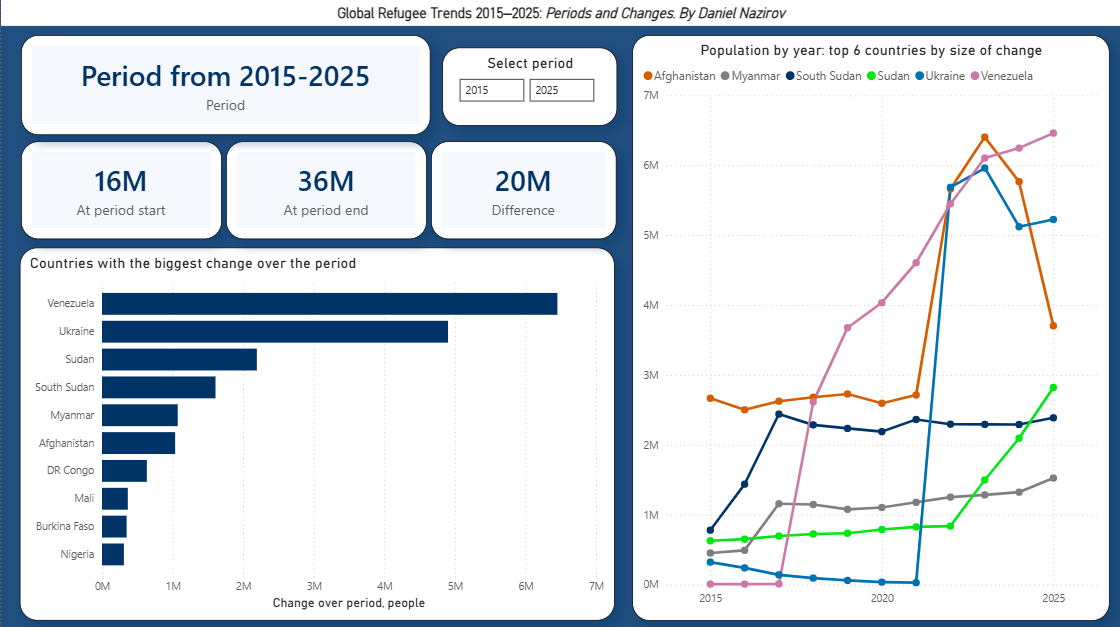

This screenshot's page, from the dashboard's own definition file:
{"tool":"powerbi","page":{"name":"Periods and changes","canvas":[1280,720],"ordinal":1},"visuals":[{"type":"clusteredBarChart","title":"Countries with the biggest change over the period","fields":{"Category":["refugees_stock_ru.Страна_происхождения"],"Y":["refugees_stock_ru.Изменение за период"]},"box":[20.9,283.2,679.6,426.3],"z":0},{"type":"slicer","title":"Select period","fields":{"Values":["Годы.Год"]},"box":[503.8,53.7,199.7,89.4],"z":1000},{"type":"cardVisual","fields":{"Data":["refugees_stock_ru.На начало периода"]},"box":[23.3,161.3,229.5,111.8],"z":2000},{"type":"cardVisual","fields":{"Data":["refugees_stock_ru.На конец периода"]},"box":[257.3,161.3,229.5,111.8],"z":3000},{"type":"cardVisual","fields":{"Data":["refugees_stock_ru.Подпись периода"]},"box":[23.3,40.5,468,114.8],"z":4000},{"type":"lineChart","title":"Population by year: top 6 countries by size of change","fields":{"Category":["Годы.Год"],"Series":["refugees_stock_ru.Страна_происхождения"],"Y":["refugees_stock_ru.Беженцы и нуждающиеся в защите"]},"box":[721.4,40.2,545.5,669.2],"z":5000},{"type":"cardVisual","fields":{"Data":["refugees_stock_ru.Изменение за период"]},"box":[491.3,161.3,211.6,111.8],"z":6000},{"type":"textbox","box":[0,0,1280.3,29.8],"z":7000}]}

Visuals, with their boxes in screenshot pixels (x1, y1, x2, y2), scaled from the page's 1280x720 canvas onto the 1120x627 screenshot:
"Countries with the biggest change over the period" clusteredBarChart: rect(18, 247, 613, 618)
"Select period" slicer: rect(441, 47, 616, 125)
cardVisual - refugees_stock_ru.На начало периода: rect(20, 140, 221, 238)
cardVisual - refugees_stock_ru.На конец периода: rect(225, 140, 426, 238)
cardVisual - refugees_stock_ru.Подпись периода: rect(20, 35, 430, 135)
"Population by year: top 6 countries by size of change" lineChart: rect(631, 35, 1109, 618)
cardVisual - refugees_stock_ru.Изменение за период: rect(430, 140, 615, 238)
textbox: rect(0, 0, 1119, 26)
